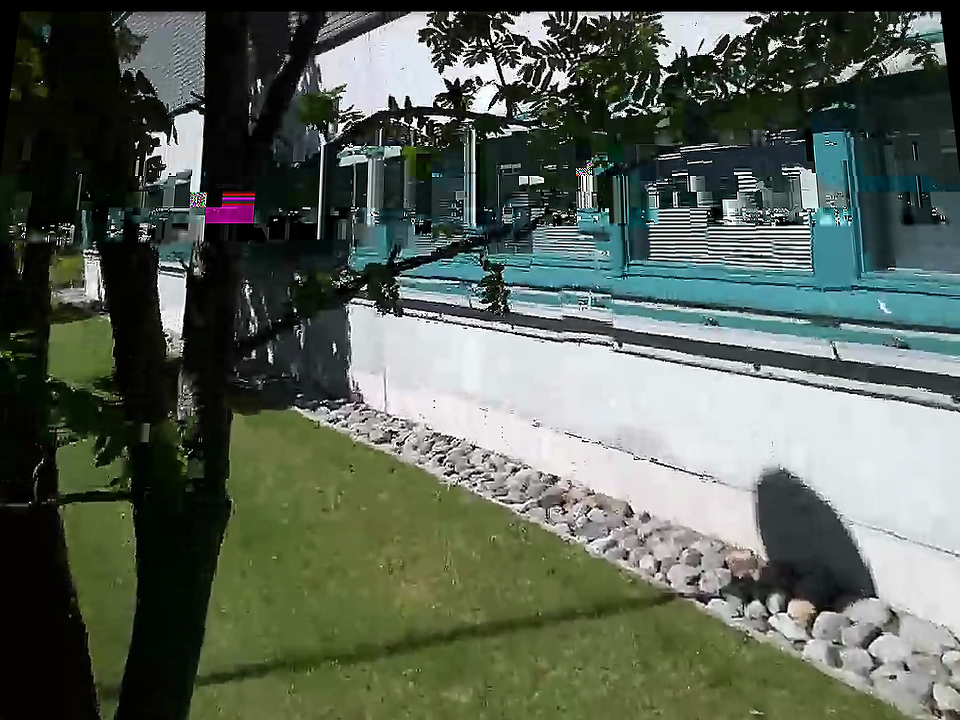branch: (324, 212, 510, 316), (244, 262, 382, 367), (364, 92, 532, 145), (367, 105, 542, 136)
trunk: (52, 43, 309, 388), (43, 300, 276, 670)
